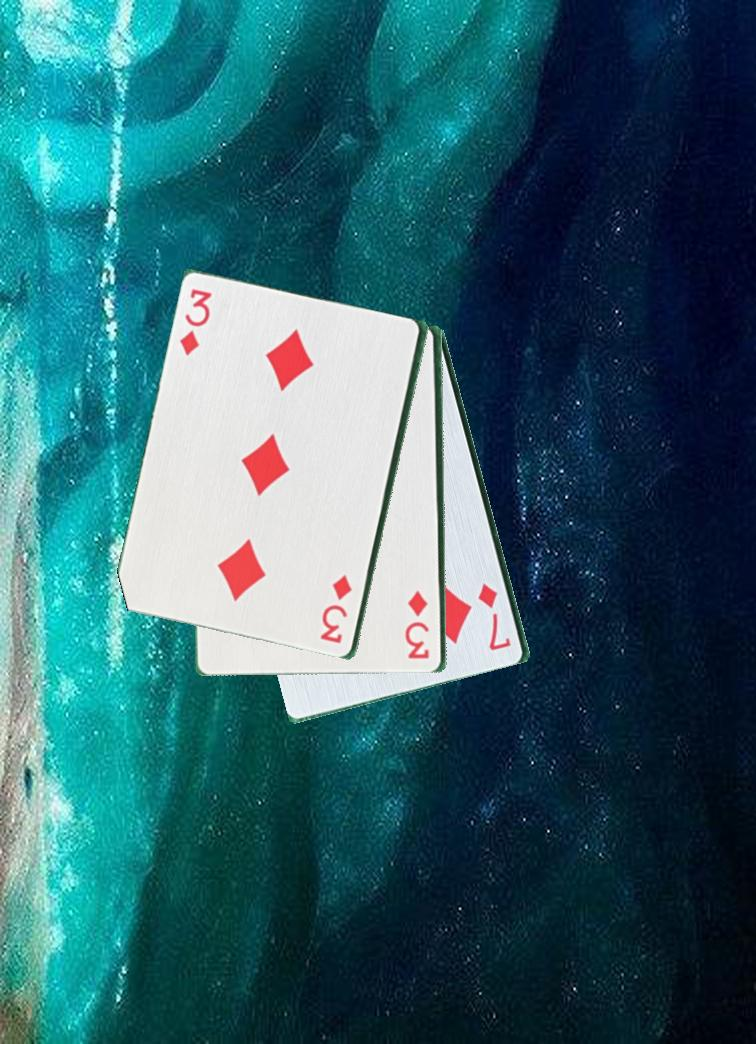3d: (176, 285, 216, 360), (320, 571, 356, 647), (407, 587, 433, 662)
7d: (476, 576, 515, 653)
